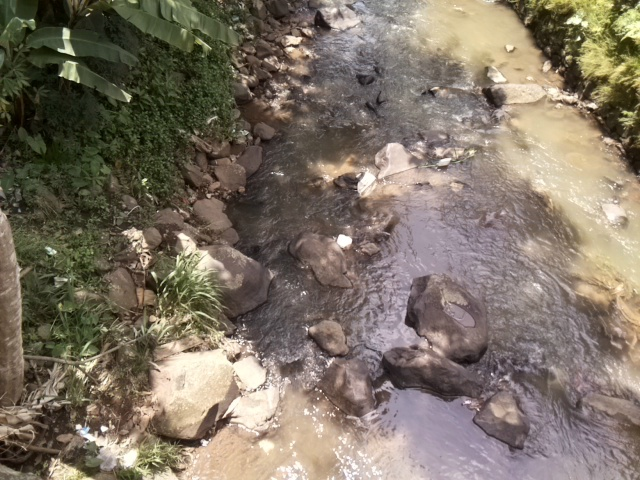Sampah_Plastik: (356, 171, 378, 196)
Sampah_Styrofoam: (335, 234, 357, 249)
